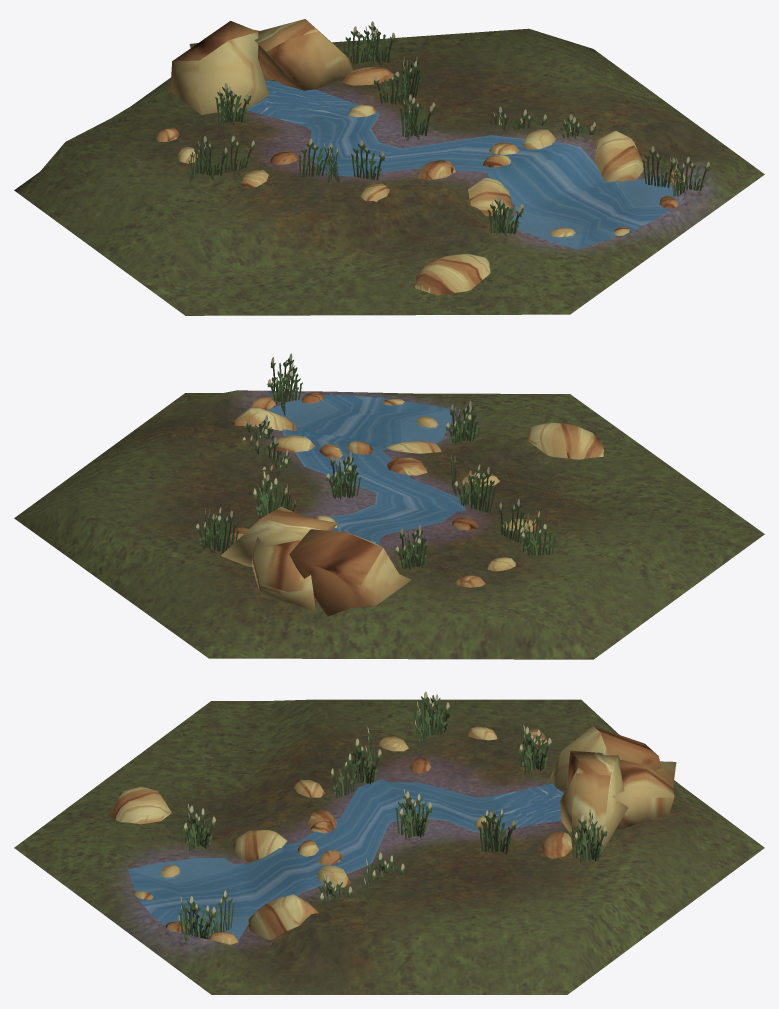
Rendered from RioPampas.fbx.
3 renders of one model, top to bottom at view 1: azimuth 30°, elevation 25°; view 2: azimuth 150°, elevation 25°; view 3: azimuth 270°, elevation 25°, orthographic. The views are drawn at different scales.
Parts seen in each view (by area): view 1: RioPampasTile; view 2: RioPampasTile; view 3: RioPampasTile.
Boxes of the visible parts, x1,y1,x2,y2 form: RioPampasTile: (14, 19, 764, 315); RioPampasTile: (14, 353, 764, 659); RioPampasTile: (14, 691, 764, 994).
Bounding box in the file's own units: 516 × 87.71 × 557.
